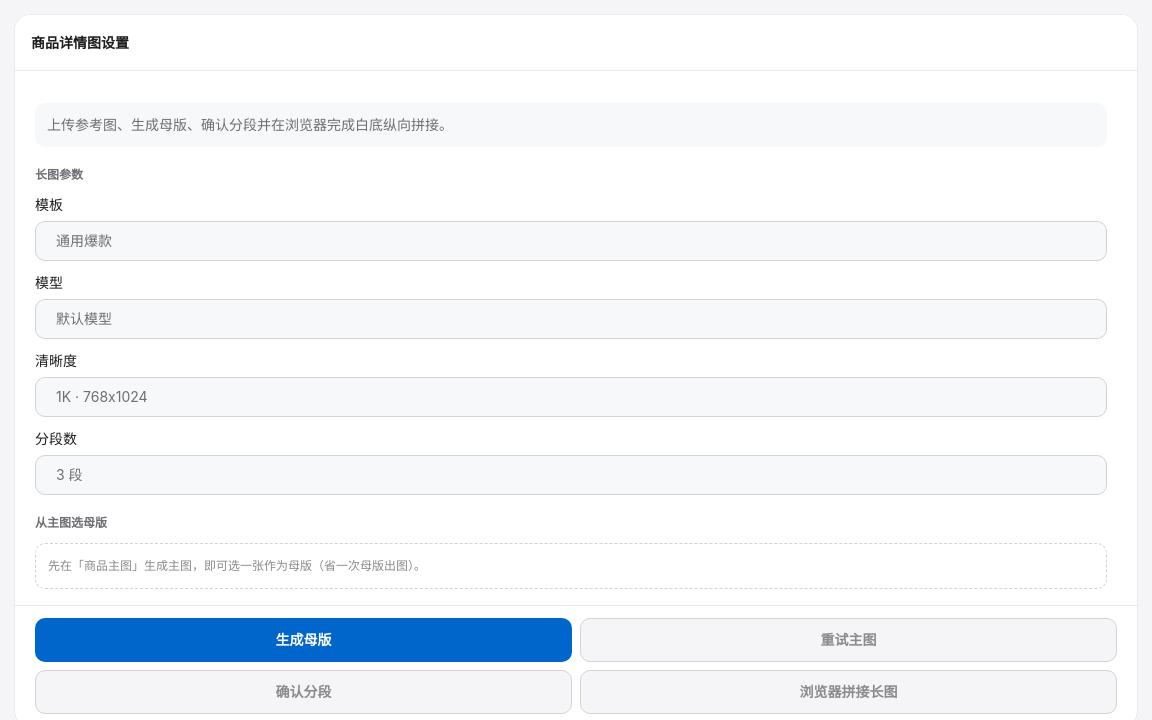
Test case: EcomWorkflowStudio without retired pricing UI › keeps bootstrapping and generation independent of the unused pricing query
Click the button "生成母版" at [304, 640], box [35,618,572,662]
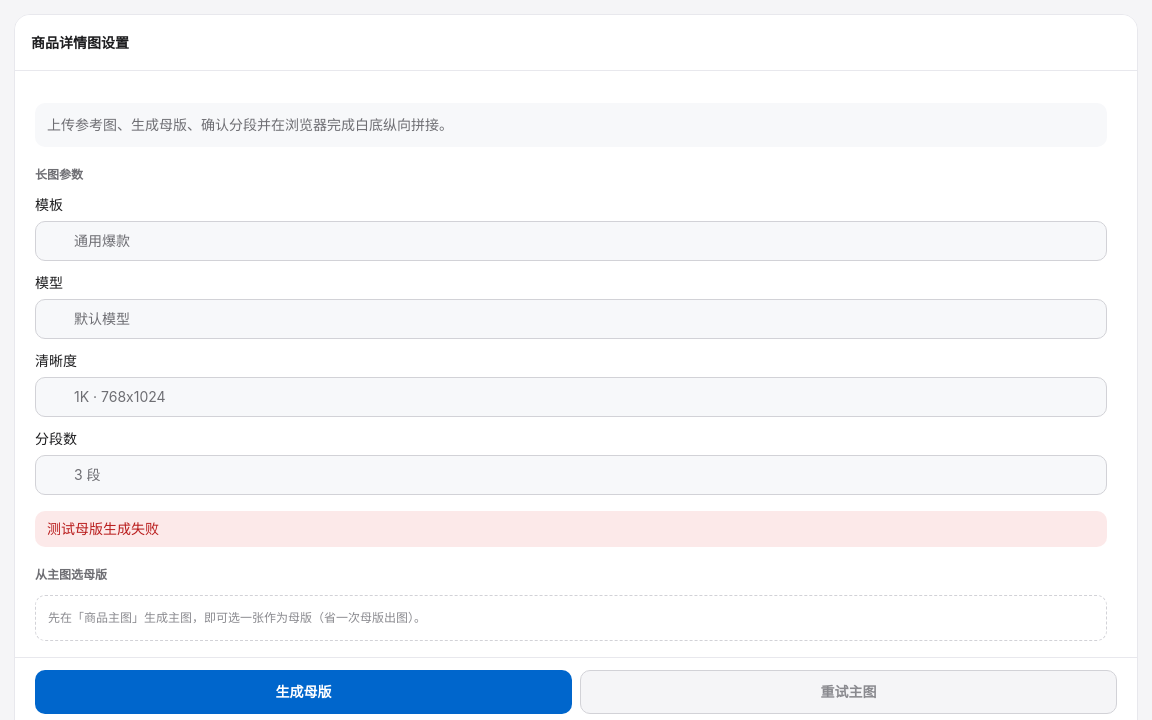
Expected: the button "生成母版" is enabled, [35,670,572,714]
Expected: the text "测试母版生成失败" is shown, [35,511,1107,547]
